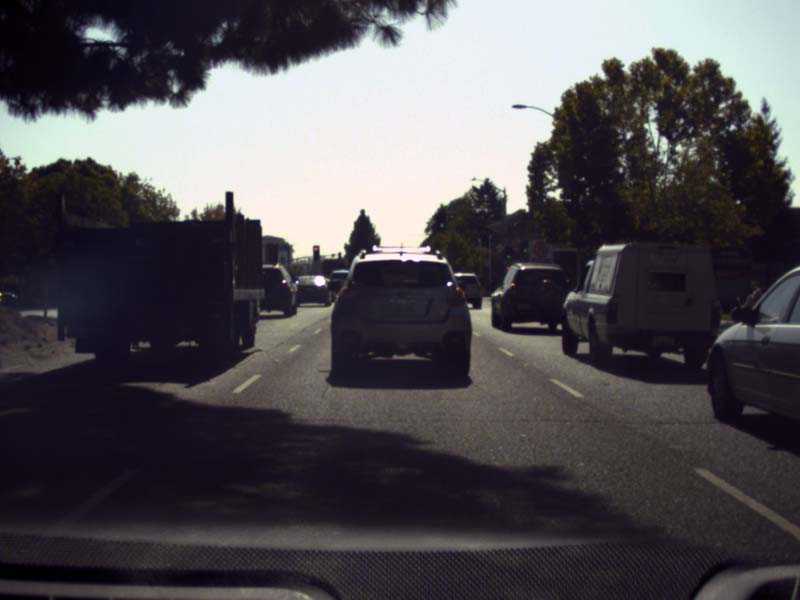Green: (437, 210, 446, 231), (504, 245, 513, 260), (520, 240, 528, 254)
Red: (313, 244, 319, 261)
